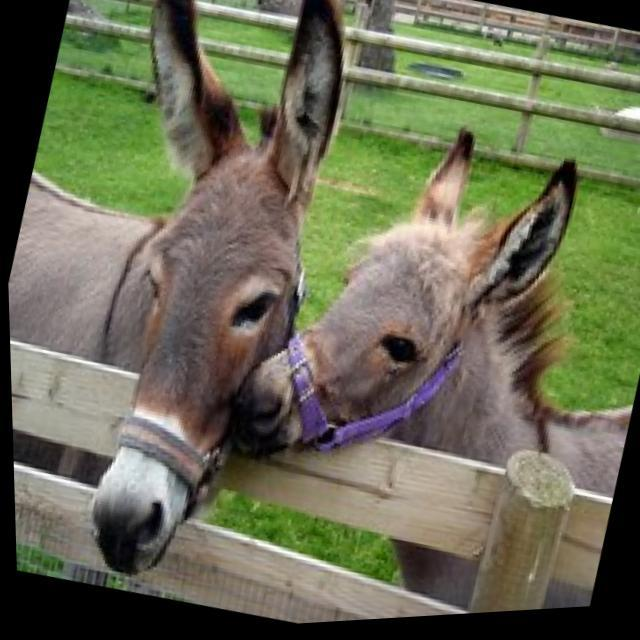Donkey: (0, 0, 439, 637), (188, 61, 640, 632)
